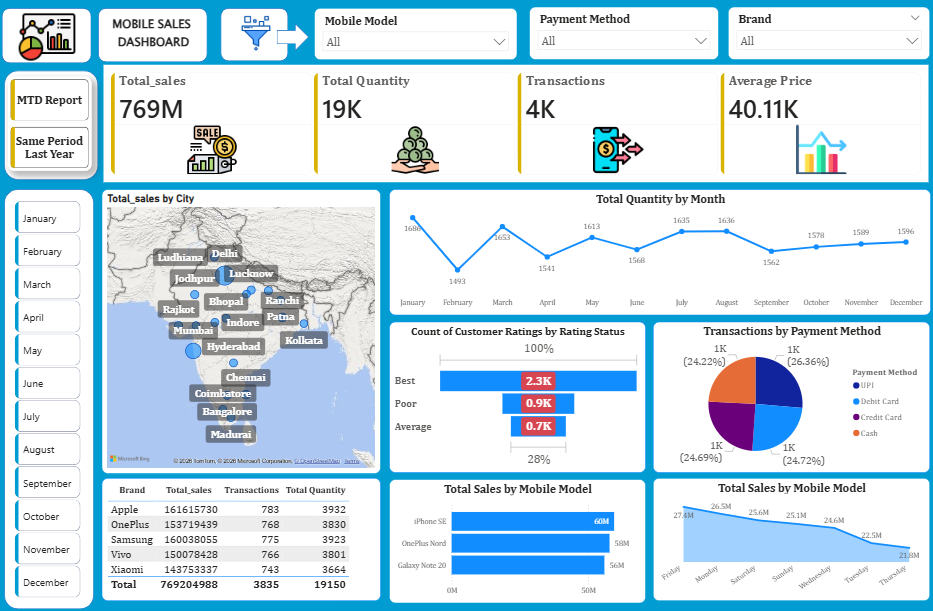

The page's visual inventory and layout, read from the dashboard file:
{"tool":"powerbi","page":{"name":"Dashboard","canvas":[1500,1000],"ordinal":0},"visuals":[{"type":"shape","box":[6.7,15,143.3,88.3],"z":0},{"type":"shape","box":[10,115,150,175],"z":1000},{"type":"shape","box":[10,305,143.3,671.7],"z":2000},{"type":"advancedSlicerVisual","fields":{"Values":["Custom_Calendar.Date.Variation.Date Hierarchy.Month"]},"box":[21.7,320,115,655],"z":3000},{"type":"cardVisual","fields":{"Data":["Sales_data.Total_sales","Sales_data.Total Quantity","Sales_data.Transactions","Sales_data.Average Price"]},"box":[160,98.3,1340,206.7],"z":4000},{"type":"slicer","fields":{"Values":["Sales_data.Mobile Model"]},"box":[505,15,325,83.3],"z":5000},{"type":"slicer","fields":{"Values":["Sales_data.Payment Method"]},"box":[850,13.3,303.3,85],"z":6000},{"type":"slicer","fields":{"Values":["Sales_data.Brand"]},"box":[1168.3,13.3,323.3,85],"z":7000},{"type":"shape","box":[356.7,15,108.3,85],"z":8000},{"type":"image","box":[358.3,28.3,110,56.7],"z":9000},{"type":"shape","box":[445,40,51.7,45],"z":10000},{"type":"shape","box":[160,15,175,86.7],"z":11000},{"type":"textbox","box":[171.7,21.7,153.3,76.7],"z":12000},{"type":"map","fields":{"Category":["Sales_data.City"],"Size":["Sales_data.Total_sales"]},"box":[166.7,305,446.7,455],"z":13000},{"type":"lineChart","fields":{"Category":["Custom_Calendar.Date.Variation.Date Hierarchy.Month"],"Y":["Sales_data.Total Quantity"]},"box":[625,305,866.7,201.7],"z":14000},{"type":"funnel","fields":{"Y":["CountNonNull(Sales_data.Customer Ratings)"],"Category":["Sales_data.Rating Status"]},"box":[625,518.3,410,241.7],"z":15000},{"type":"pieChart","fields":{"Category":["Sales_data.Payment Method"],"Y":["Sales_data.Transactions"]},"box":[1048.3,518.3,443.3,241.7],"z":16000},{"type":"clusteredBarChart","title":"Total Sales by Mobile Model","fields":{"Y":["Sales_data.Total_sales"],"Category":["Sales_data.Mobile Model"]},"box":[625,770,410,198.3],"z":17000},{"type":"areaChart","title":"Total Sales by Mobile Model","fields":{"Y":["Sales_data.Total_sales"],"Category":["Custom_Calendar.Day Name"]},"box":[1048.3,768.3,443.3,196.7],"z":18000},{"type":"tableEx","fields":{"Values":["Sales_data.Brand","Sales_data.Total_sales","Sales_data.Transactions","Sales_data.Total Quantity"]},"box":[166.7,768.3,446.7,196.7],"z":19000},{"type":"pageNavigator","box":[16.7,126.7,133.3,150],"z":20000},{"type":"image","box":[5,13.3,145,96.7],"z":21000}]}

Visuals, with their boxes in screenshot pixels (x1, y1, x2, y2), scaled from the page's 1500x1000 canvas onto the 933x611 screenshot:
shape: <box>4,9,93,63</box>
shape: <box>6,70,100,177</box>
shape: <box>6,186,95,597</box>
advancedSlicerVisual - Custom_Calendar.Date.Variation.Date Hierarchy.Month: <box>13,196,85,596</box>
cardVisual - Sales_data.Total_sales x Sales_data.Total Quantity: <box>100,60,932,186</box>
slicer - Sales_data.Mobile Model: <box>314,9,516,60</box>
slicer - Sales_data.Payment Method: <box>529,8,717,60</box>
slicer - Sales_data.Brand: <box>727,8,928,60</box>
shape: <box>222,9,289,61</box>
image: <box>223,17,291,52</box>
shape: <box>277,24,309,52</box>
shape: <box>100,9,208,62</box>
textbox: <box>107,13,202,60</box>
map - Sales_data.City x Sales_data.Total_sales: <box>104,186,382,464</box>
lineChart - Custom_Calendar.Date.Variation.Date Hierarchy.Month x Sales_data.Total Quantity: <box>389,186,928,310</box>
funnel - CountNonNull(Sales_data.Customer Ratings) x Sales_data.Rating Status: <box>389,317,644,464</box>
pieChart - Sales_data.Payment Method x Sales_data.Transactions: <box>652,317,928,464</box>
"Total Sales by Mobile Model" clusteredBarChart: <box>389,470,644,592</box>
"Total Sales by Mobile Model" areaChart: <box>652,469,928,590</box>
tableEx - Sales_data.Brand x Sales_data.Total_sales: <box>104,469,382,590</box>
pageNavigator: <box>10,77,93,169</box>
image: <box>3,8,93,67</box>
